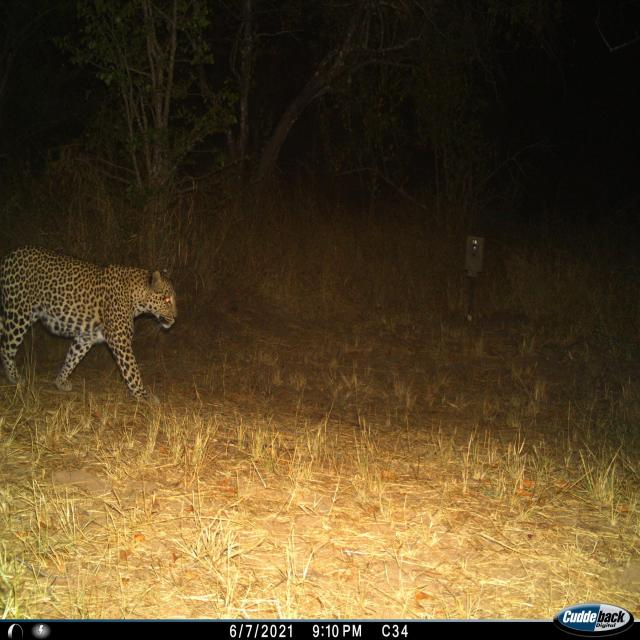Leopard: (2, 246, 168, 419)
